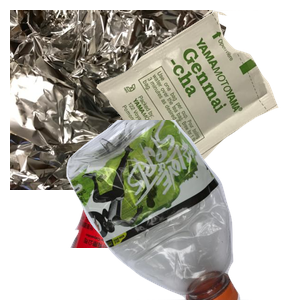glass: (68, 120, 255, 300)
metal: (10, 10, 229, 190)
plastic: (64, 120, 300, 300)
trash: (91, 10, 300, 186)
